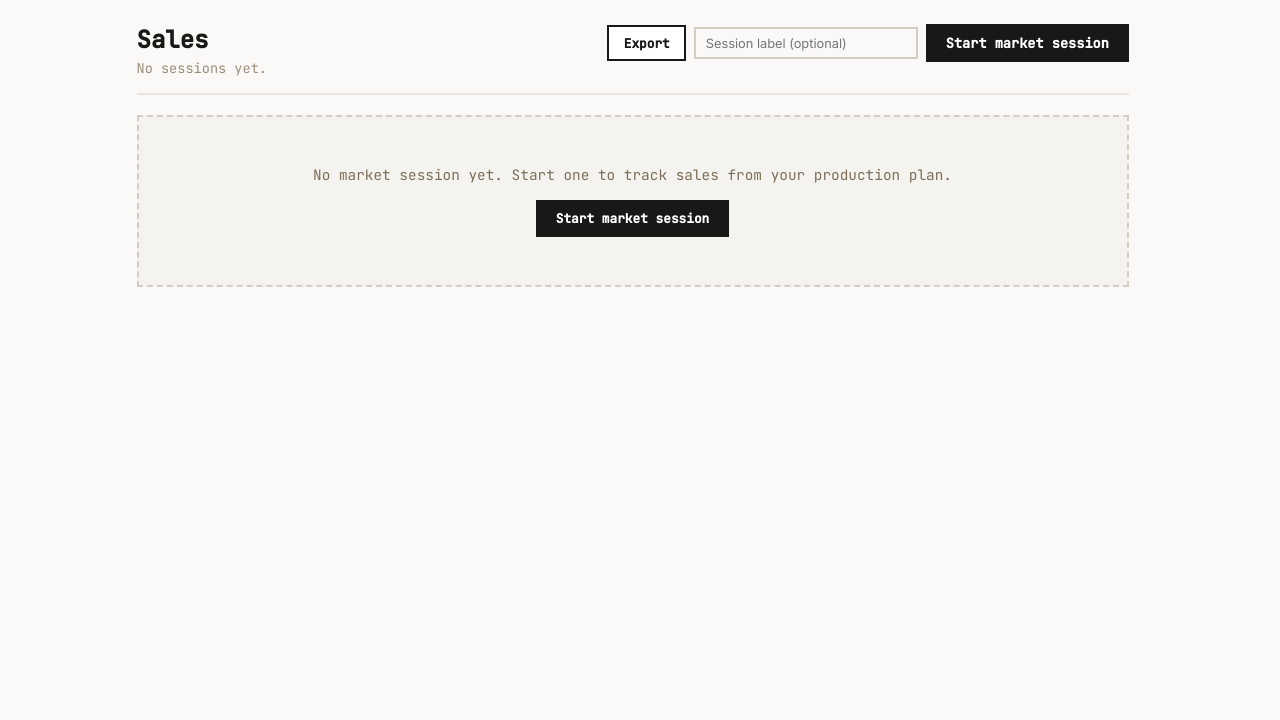
Test: SalesView › opens the New Sale sheet on "+ New Sale" click
This screenshot has width=1280, height=720.
Click the button with test id "sales-start-btn" at (1027, 43), box [926,24,1128,62]
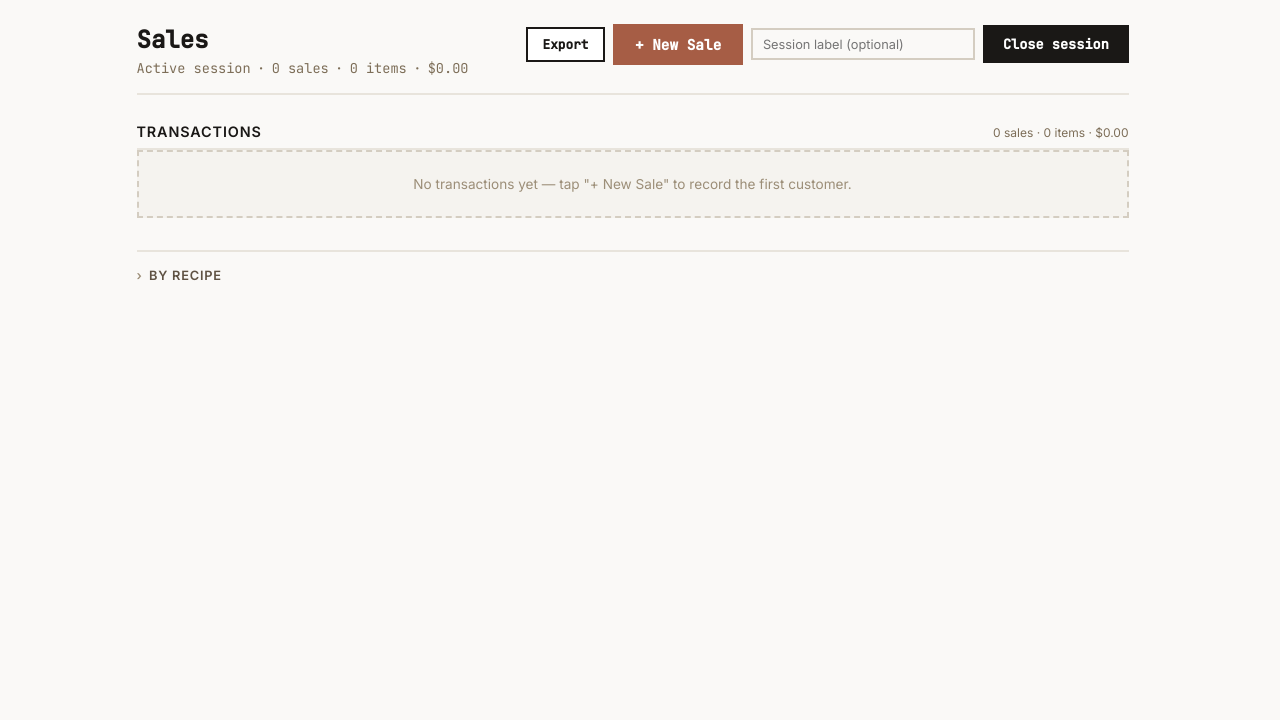
Click the button with test id "sales-new-sale-btn" at (678, 44), box [613,24,743,65]
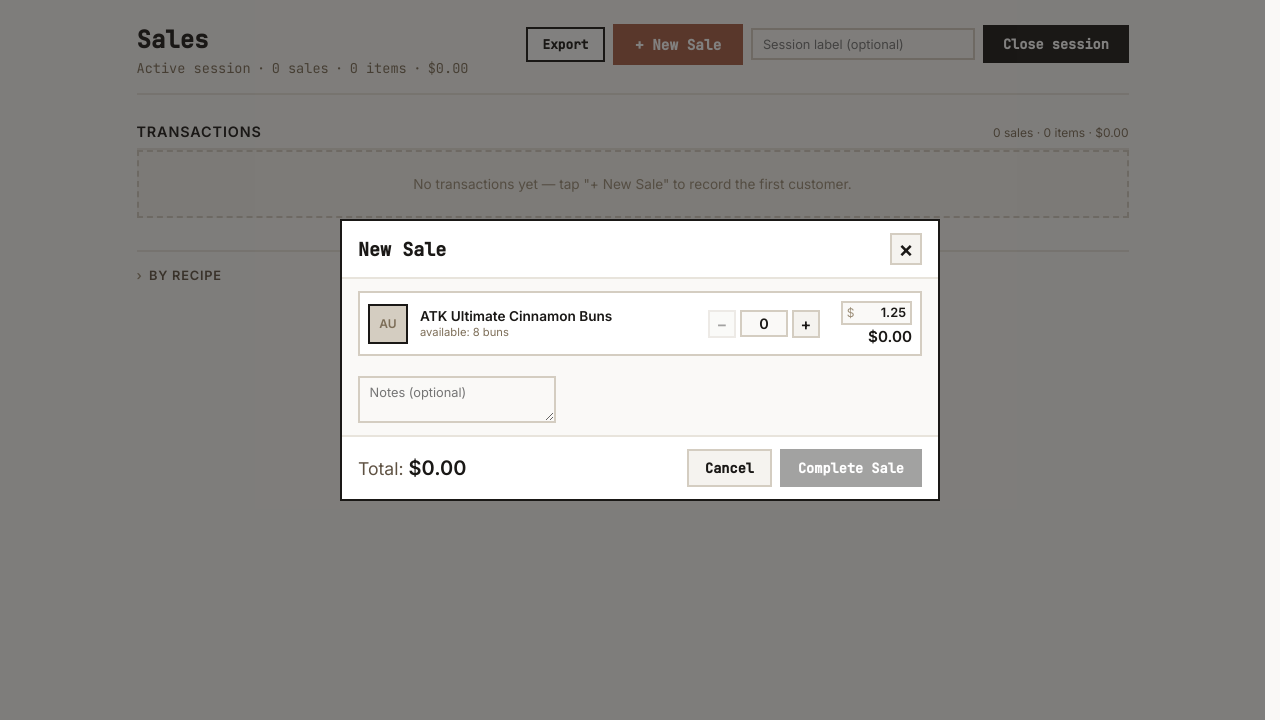
Check: the element with test id "new-sale-sheet" is shown, box [340,219,940,501]
